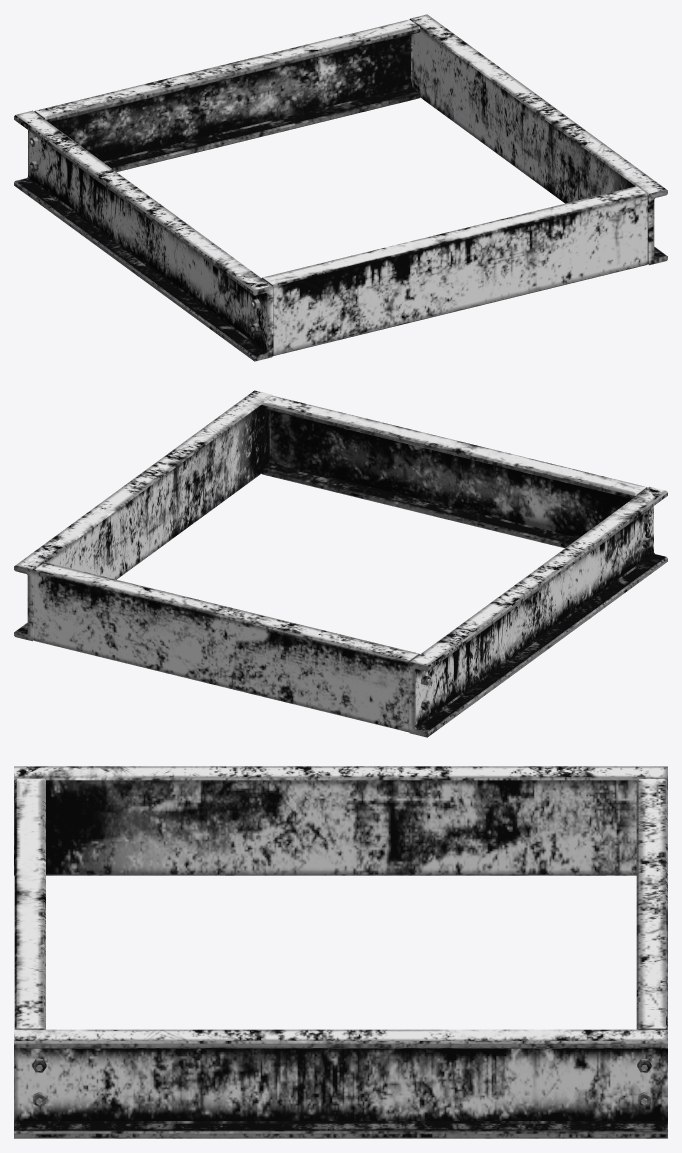
File: sm_SteelCatwalks_01_01_100x100.fbx
3 renders of one model, top to bottom at view 1: azimuth 30°, elevation 25°; view 2: azimuth 150°, elevation 25°; view 3: azimuth 270°, elevation 25°, orthographic. The views are drawn at different scales.
Parts seen in each view (by area): view 1: sm_SteelCatwalks_01_01_100x100_LOD0; view 2: sm_SteelCatwalks_01_01_100x100_LOD0; view 3: sm_SteelCatwalks_01_01_100x100_LOD0.
Boxes of the visible parts, bbox=[...] form: sm_SteelCatwalks_01_01_100x100_LOD0: bbox=[14, 14, 667, 361]; sm_SteelCatwalks_01_01_100x100_LOD0: bbox=[14, 390, 667, 737]; sm_SteelCatwalks_01_01_100x100_LOD0: bbox=[14, 766, 667, 1138].
Size of the model in its own units: 100 by 99.98 by 16.48.
